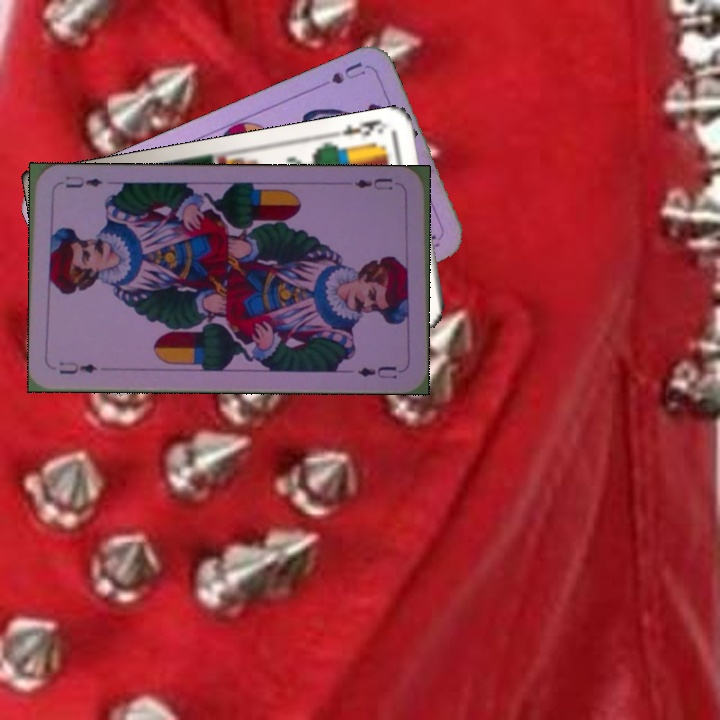EK: (338, 115, 391, 139)
EU: (350, 173, 395, 193), (55, 357, 100, 377)
SU: (311, 58, 368, 92)
